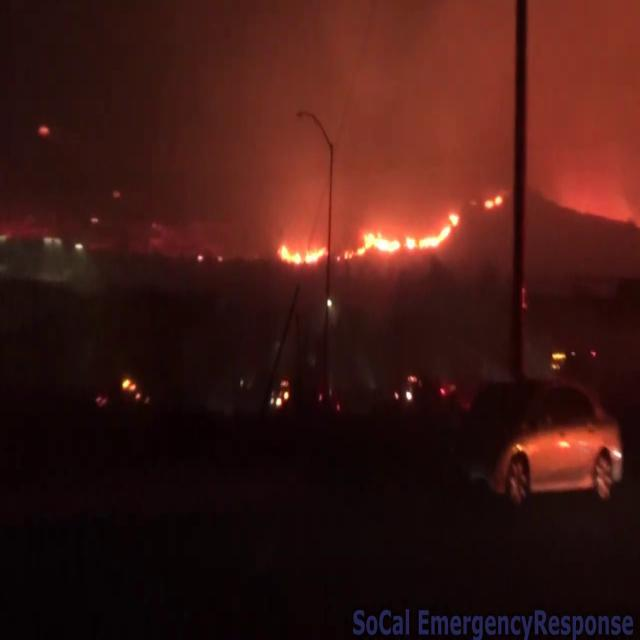Fire: (355, 209, 464, 256), (274, 232, 328, 276)
Smoke: (143, 8, 640, 263)
